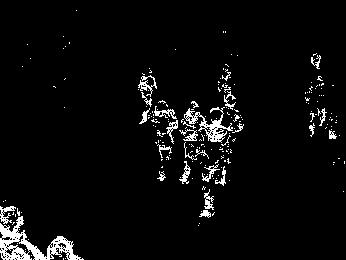person: (197, 106, 230, 221), (152, 101, 179, 179), (182, 100, 204, 184), (218, 94, 244, 164), (138, 68, 157, 125), (217, 64, 238, 113)
